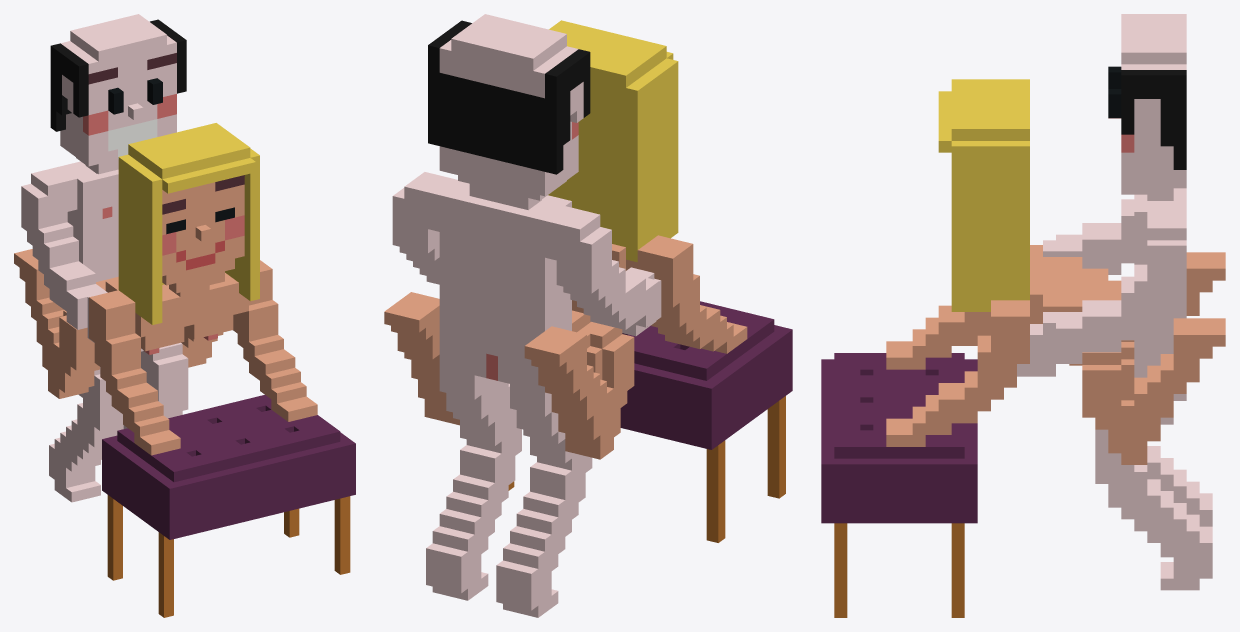
File: kama33.glb
3 views of the same model, side by side, from view 1: azimuth 30°, elevation 25°; view 2: azimuth 150°, elevation 25°; view 3: azimuth 270°, elevation 25° (orthographic). The views are drawn at different scales.
Parts seen in each view (by area): view 1: Node; view 2: Node; view 3: Node.
Part boxes in pixels (x1,y1,x2,y2): Node: (14, 14, 355, 617); Node: (384, 14, 792, 617); Node: (821, 14, 1225, 617).
Size of the model in its own units: 1.9 by 4.5 by 3.1.
1 material, 1 textured.
